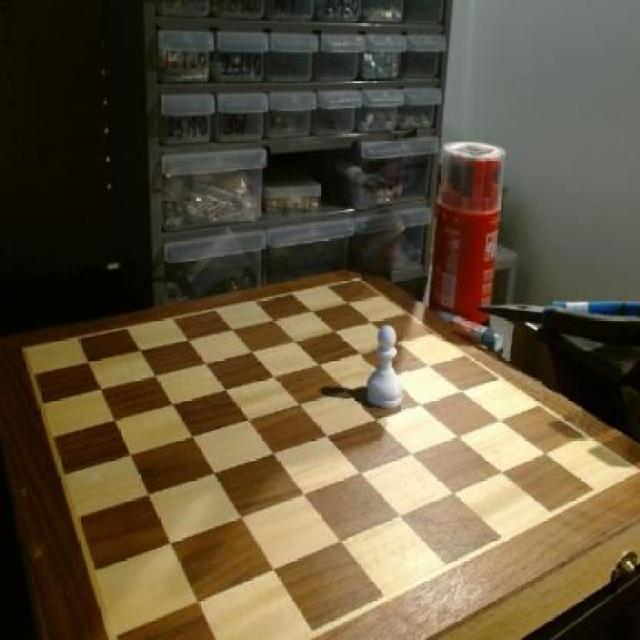white-knight: (362, 320, 408, 413)
